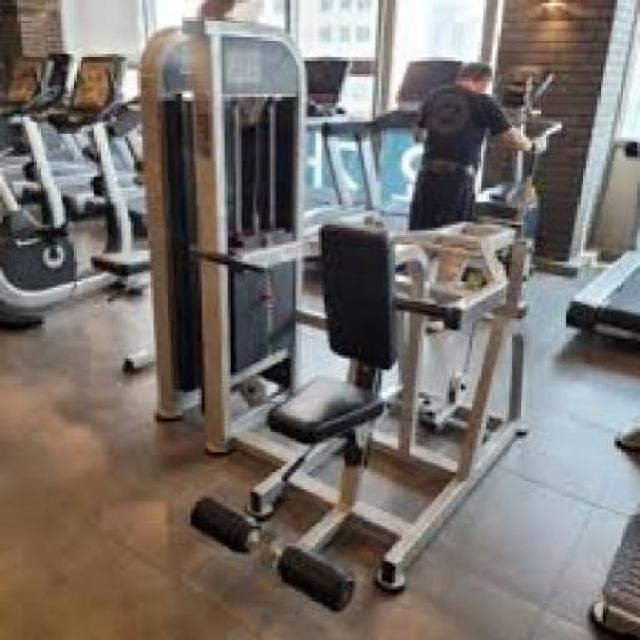seated dip machine: (101, 12, 564, 616)
